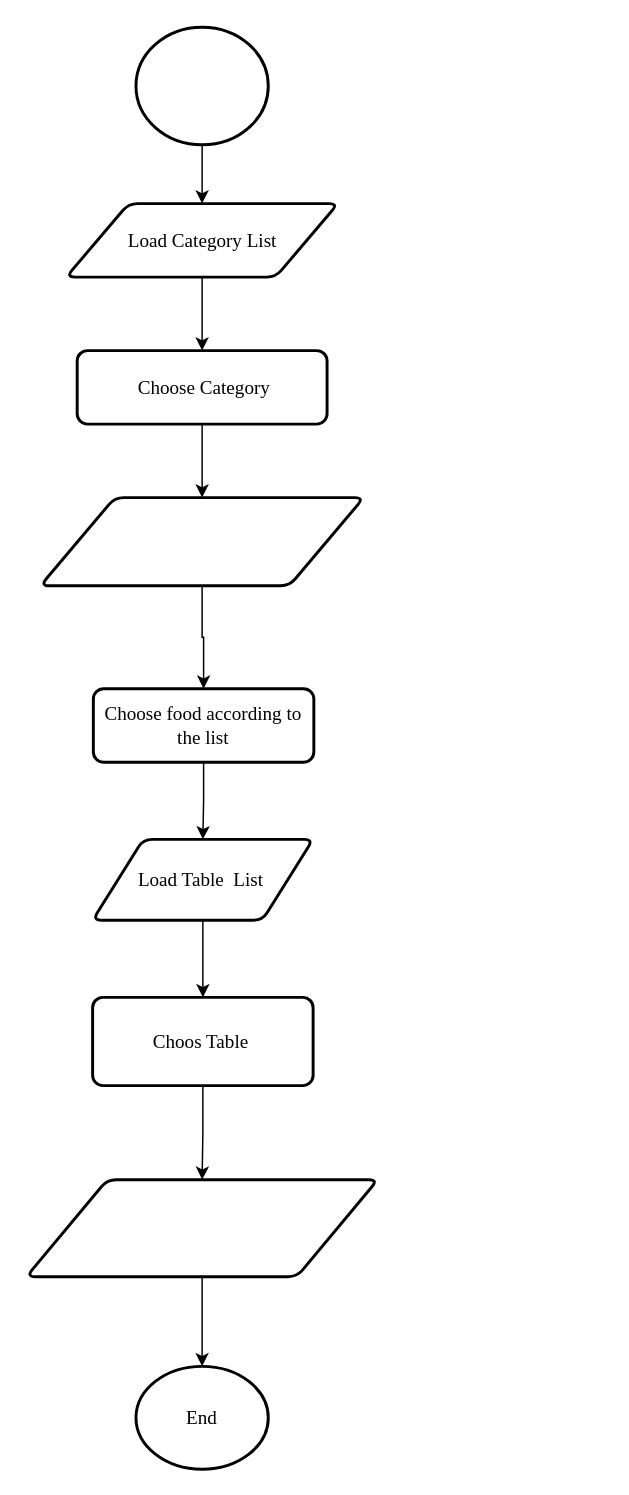
Some shapes in this 629 by 1495 pixel diagram are drawn without their labels. The shapes that lost their labels are listed below. From the top down, each one's centre as x and y in pixels, then its label:
At (201,85): "Begin".
At (201,541): "Display the food líst to the selected categiry".
At (201,1227): "Add table into Bill Detail, switch to Pay Bill form".
